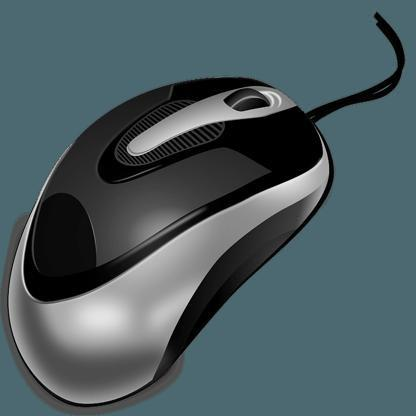not trash: (8, 76, 330, 404)
